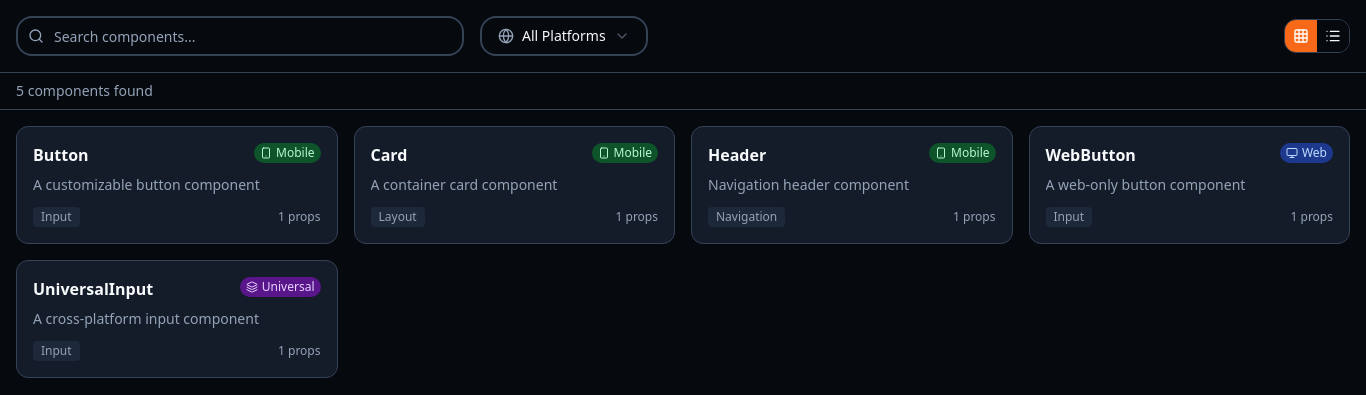
ComponentGallery › filters components by search query
Type "button" into the field with placeholder "Search components...". click: (240, 36)
box: left=16, top=16, right=464, bottom=56
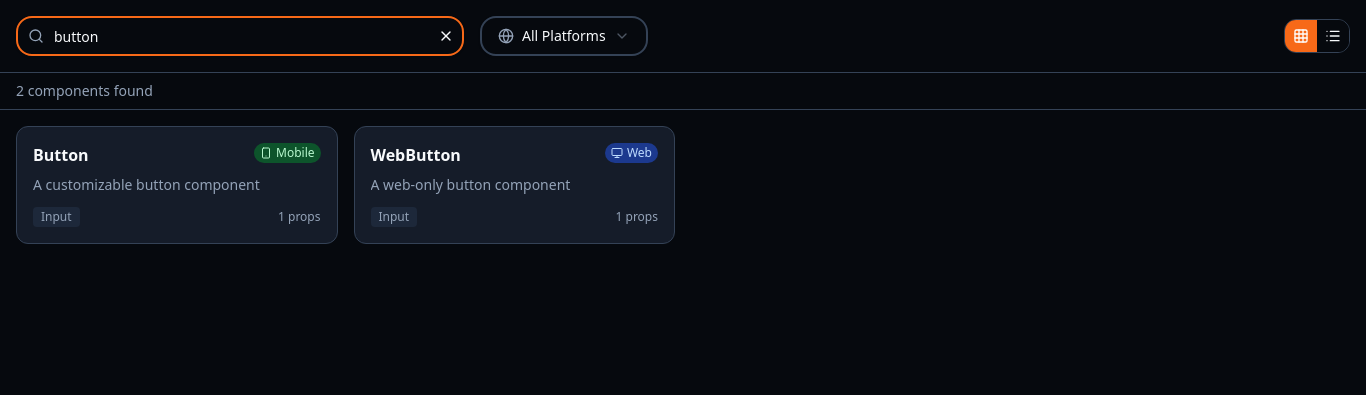
Expected: the heading "Button" is shown, left=33, top=143, right=89, bottom=167
Now the button "Card" is gone
Now the button "Header" is gone
